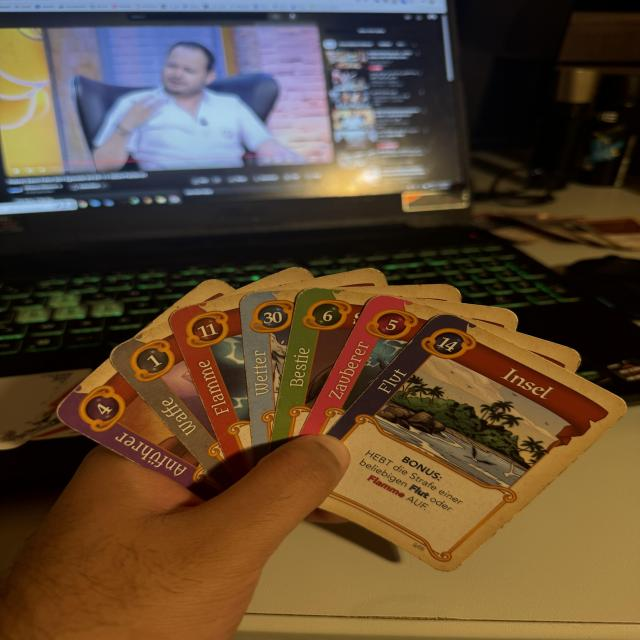Blizzard: (238, 290, 295, 465)
Elemental Enchantress: (296, 292, 436, 437)
Island: (319, 309, 632, 575)
Lightning: (168, 297, 258, 481)
Magic Wand: (105, 320, 236, 492)
War Horse: (268, 286, 372, 451)
Warlord: (50, 358, 223, 503)
